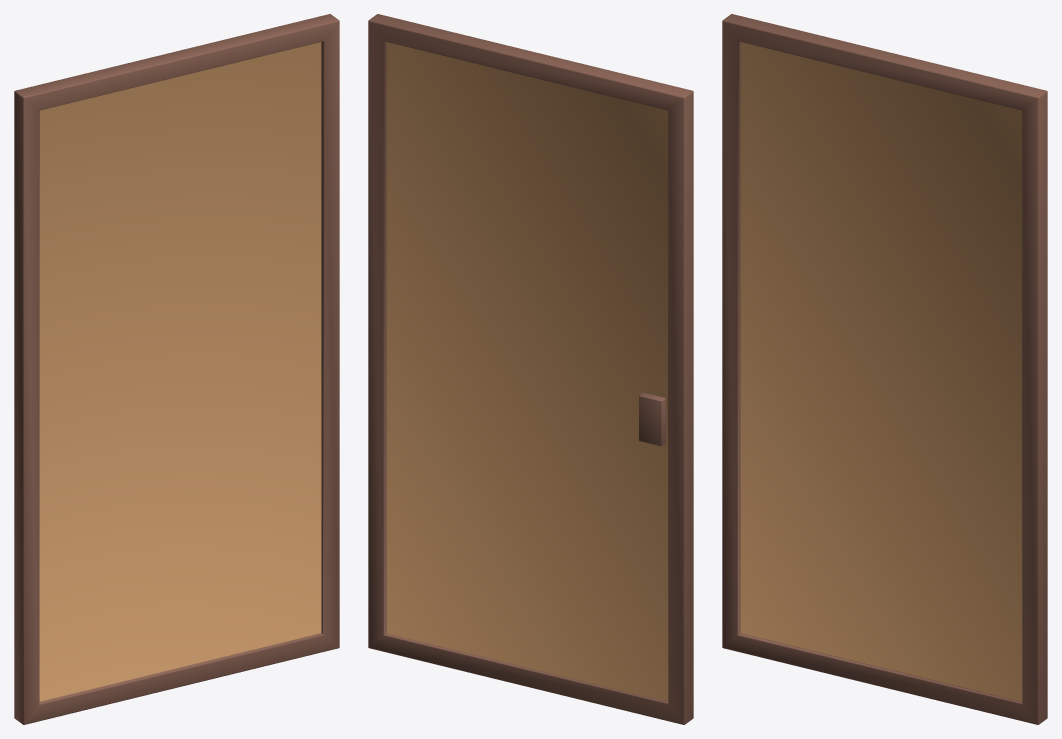
The model's file is FM_H_SH_01_Door_001.fbx.
The picture shows the model from 3 angles, left to right: view 1: azimuth 30°, elevation 25°; view 2: azimuth 150°, elevation 25°; view 3: azimuth 330°, elevation 25°; orthographic projection.
Visible parts, largest first — view 1: FM_H_SH_01_Door_001; view 2: FM_H_SH_01_Door_001; view 3: FM_H_SH_01_Door_001.
Part boxes in pixels (box(x1,y1,x2,y2)): FM_H_SH_01_Door_001: box(14, 14, 339, 724); FM_H_SH_01_Door_001: box(368, 14, 693, 724); FM_H_SH_01_Door_001: box(722, 14, 1047, 724).
Size of the model in its own units: 1.07 by 2.03 by 0.0714.
